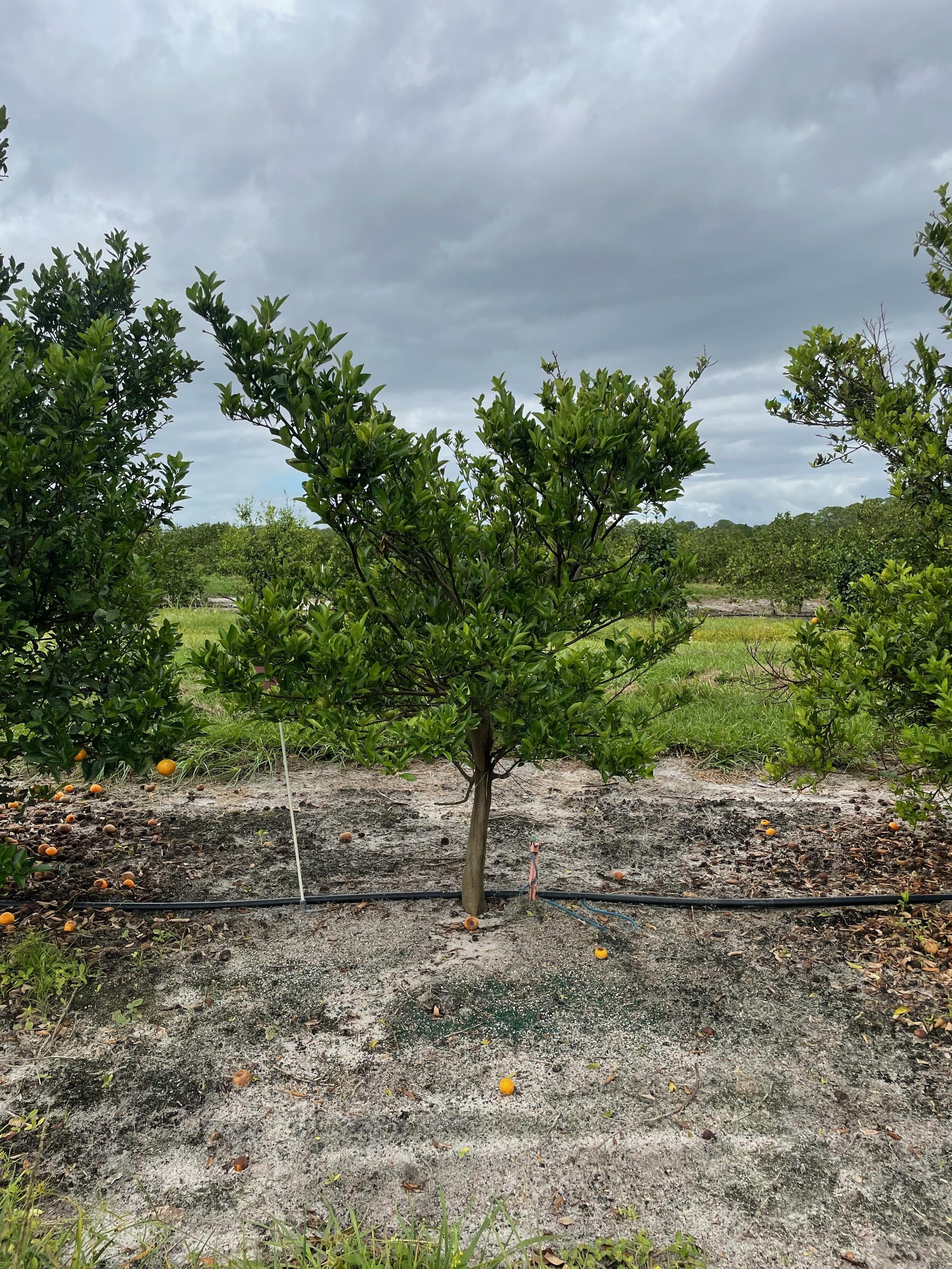fruit_on_ground: (154, 757, 177, 777), (313, 694, 332, 713), (70, 746, 88, 764), (381, 706, 397, 722), (532, 559, 547, 574), (810, 615, 820, 625)
fruit_on_tree: (229, 1067, 253, 1090), (461, 913, 481, 933), (497, 1075, 516, 1096), (233, 1153, 250, 1172), (592, 944, 610, 961), (1, 909, 16, 927), (912, 1025, 929, 1040), (62, 918, 78, 933), (121, 873, 136, 889), (93, 876, 109, 890), (102, 822, 117, 836), (36, 842, 52, 855), (88, 782, 104, 795), (44, 844, 59, 857), (338, 829, 353, 842), (56, 823, 72, 835), (5, 798, 20, 810), (610, 869, 625, 881), (122, 869, 136, 881), (51, 790, 65, 802), (763, 825, 777, 837), (63, 781, 76, 793), (64, 812, 77, 824), (145, 816, 159, 827), (758, 818, 772, 829), (887, 820, 900, 831), (58, 794, 71, 805), (143, 781, 156, 792), (195, 783, 205, 791)
